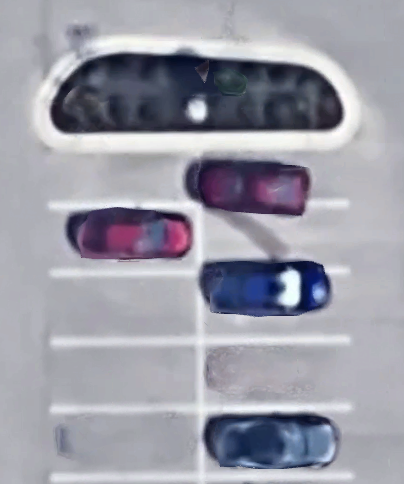Occupied: (50, 205, 203, 275), (201, 204, 349, 273), (201, 272, 349, 340), (202, 409, 352, 476), (201, 138, 347, 203)
Vacant: (49, 137, 201, 206), (51, 409, 201, 478), (51, 342, 201, 410), (51, 274, 201, 341), (201, 340, 350, 407)
